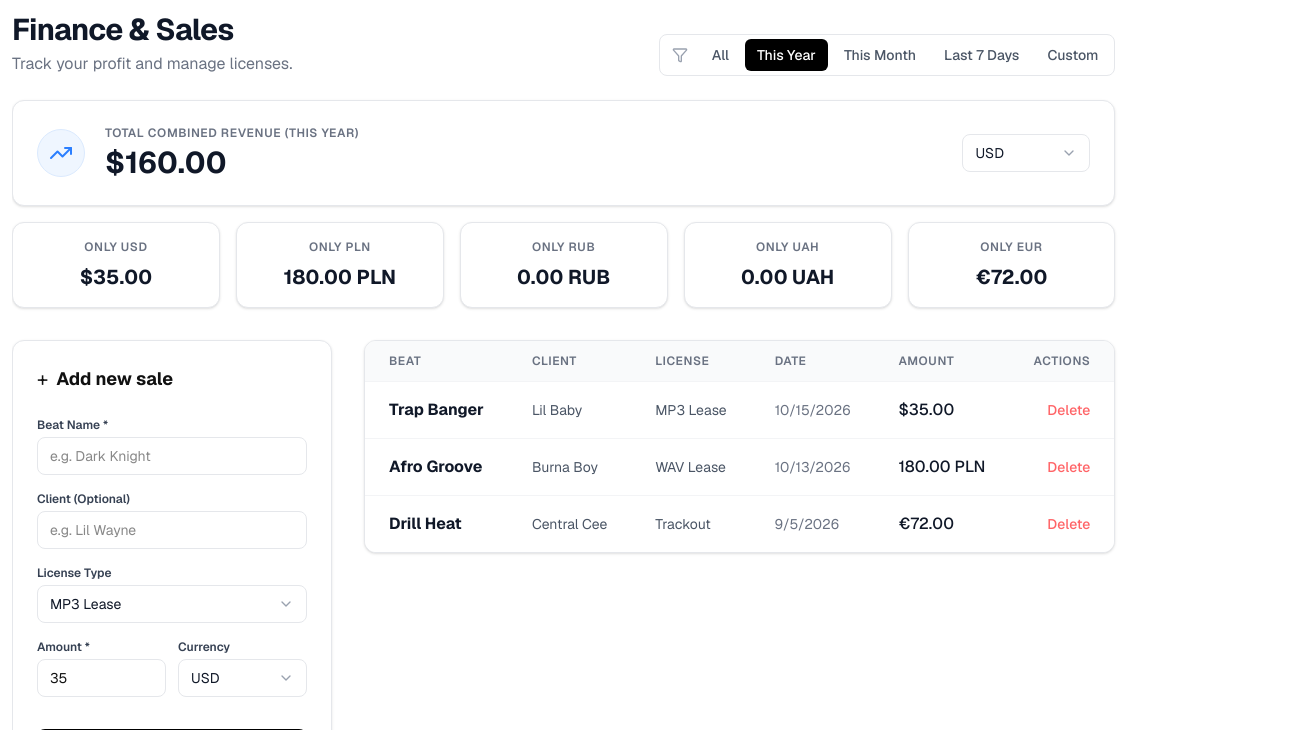
it: FinansePage (/finanse) › auto-populates default price when license type is changed in Add Revenue form
Expected: the number field showing "35" is shown, 37,659 -> 166,697
Click the text "MP3 Lease" at (86, 604), box 50,594 -> 121,614
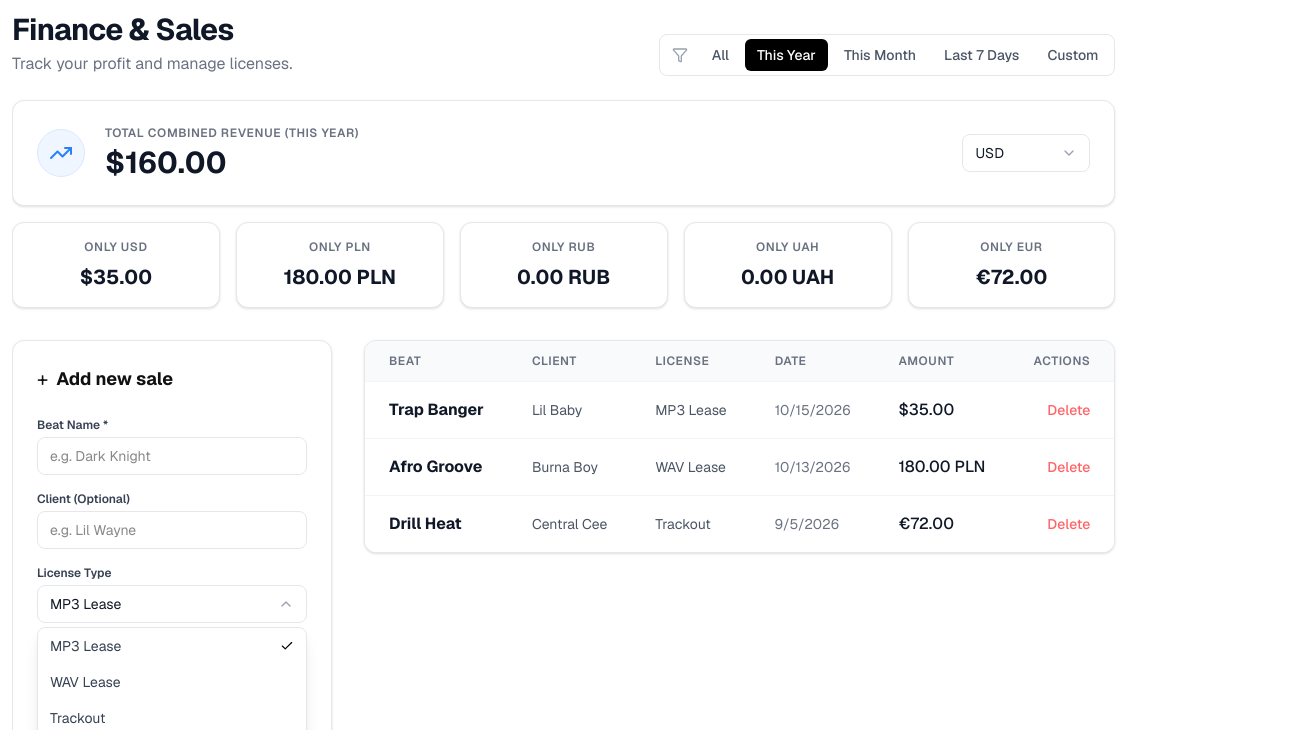
Click the text "WAV Lease" at (85, 682), box 50,673 -> 121,691
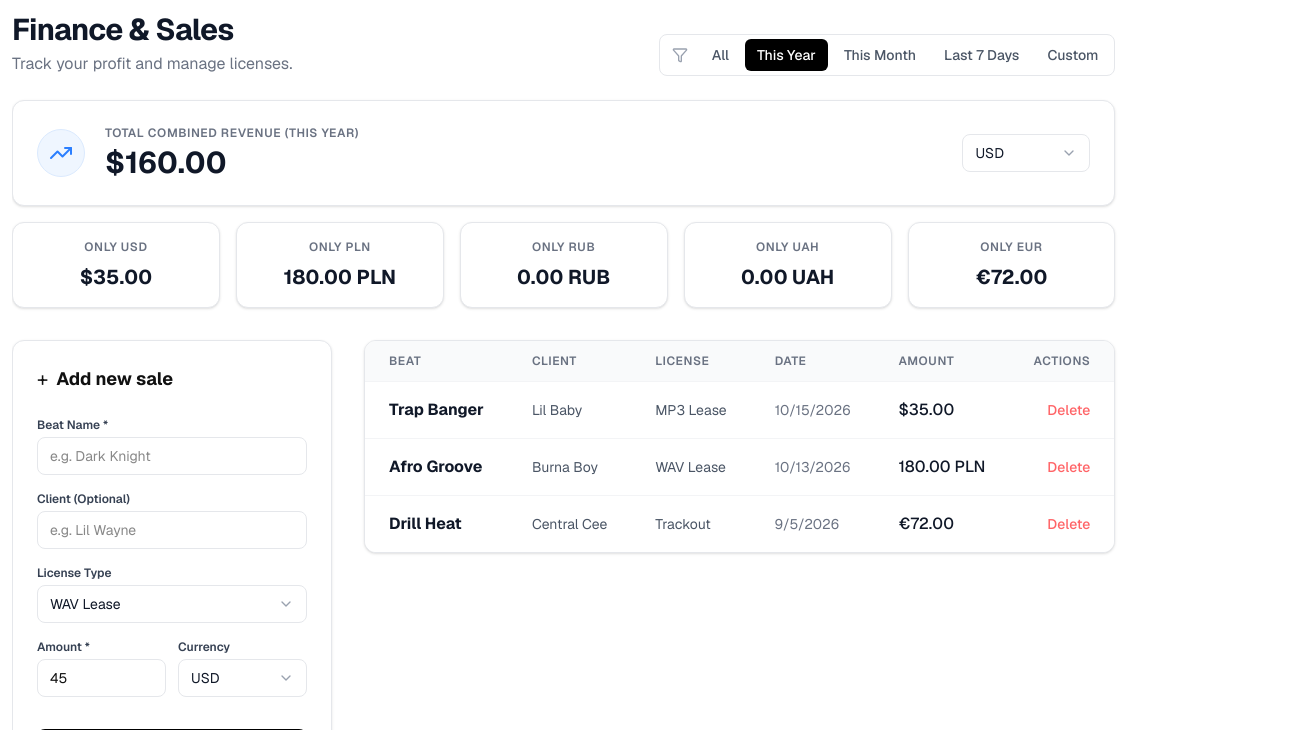
Expected: the number field showing "45" is shown, 37,659 -> 166,697
